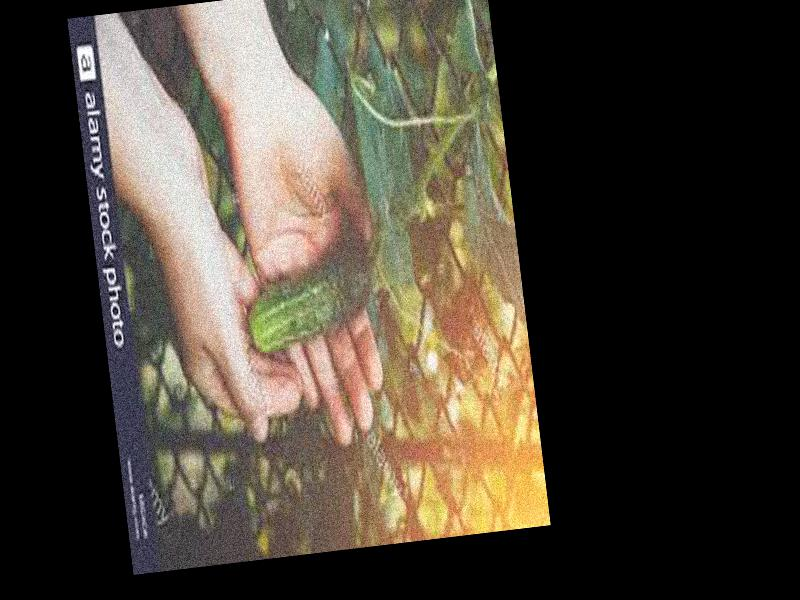Cucumber: (239, 241, 378, 357)
